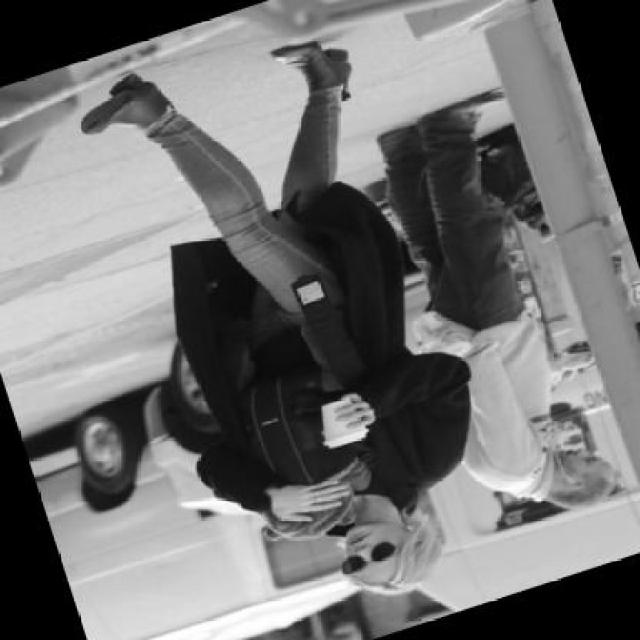earphone: (552, 446, 576, 491), (392, 516, 429, 538)
